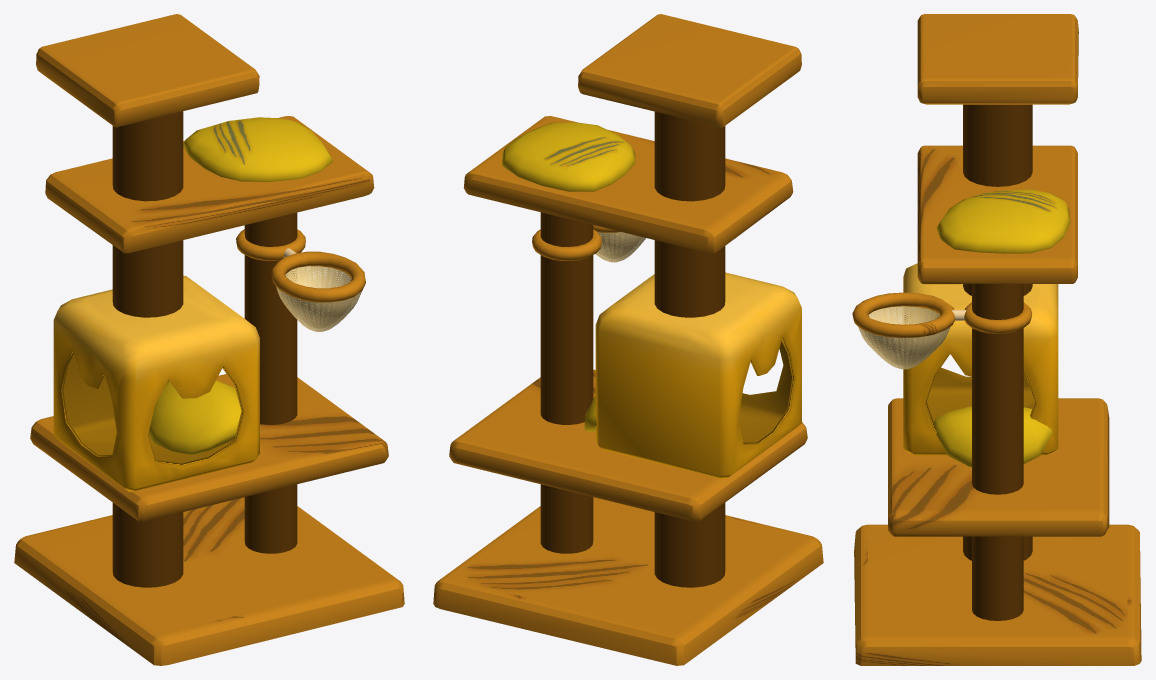
The model's file is cat_tower.glb.
3 views of the same model, side by side, from view 1: azimuth 30°, elevation 25°; view 2: azimuth 150°, elevation 25°; view 3: azimuth 270°, elevation 25° (orthographic).
Parts seen in each view (by area): view 1: platform1_PLATFROMS_0, CAT_BOX_catroom_0, pole_R_POLE_0, costion_custion_0, cloth_net_0; view 2: platform1_PLATFROMS_0, CAT_BOX_catroom_0, pole_R_POLE_0, costion_custion_0, cloth_net_0; view 3: platform1_PLATFROMS_0, pole_R_POLE_0, CAT_BOX_catroom_0, costion_custion_0, cloth_net_0.
Boxes of the visible parts, bbox=[...] form: platform1_PLATFROMS_0: bbox=[14, 14, 404, 665]; CAT_BOX_catroom_0: bbox=[53, 275, 259, 491]; pole_R_POLE_0: bbox=[112, 111, 297, 587]; costion_custion_0: bbox=[148, 117, 333, 455]; cloth_net_0: bbox=[276, 266, 361, 331]; platform1_PLATFROMS_0: bbox=[433, 14, 823, 665]; CAT_BOX_catroom_0: bbox=[595, 272, 801, 478]; pole_R_POLE_0: bbox=[540, 111, 725, 587]; costion_custion_0: bbox=[502, 122, 635, 432]; cloth_net_0: bbox=[595, 232, 645, 262]; platform1_PLATFROMS_0: bbox=[852, 14, 1141, 665]; pole_R_POLE_0: bbox=[963, 104, 1032, 620]; CAT_BOX_catroom_0: bbox=[903, 263, 1058, 455]; costion_custion_0: bbox=[933, 189, 1070, 466]; cloth_net_0: bbox=[858, 306, 950, 369].
Size of the model in its own units: 0.0849 by 0.168 by 0.083.
Materials: 6 (4 with a texture image).
